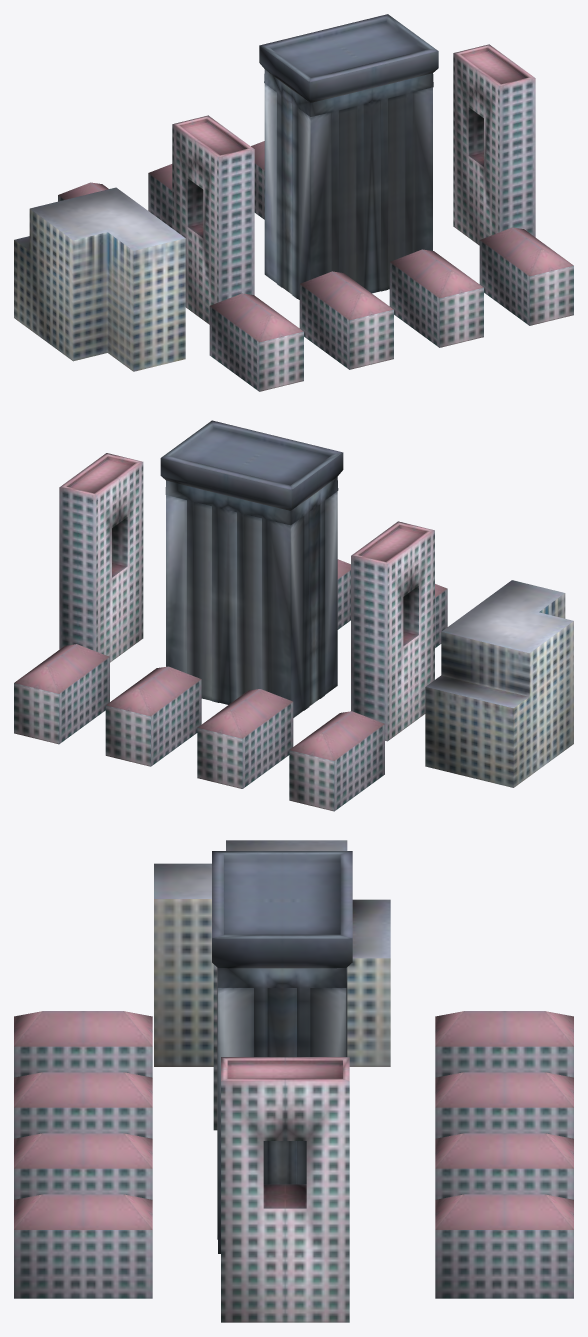
File: city_postmodern_0.glb
The picture shows the model from 3 angles, top to bottom: view 1: azimuth 30°, elevation 25°; view 2: azimuth 150°, elevation 25°; view 3: azimuth 270°, elevation 25°; orthographic projection. The views are drawn at different scales.
Parts seen in each view (by area): view 1: 16_low.018, 16_low.020, 16_low.019, 16_low.021, 16_low.022; view 2: 16_low.018, 16_low.020, 16_low.019, 16_low.021, 16_low.022; view 3: 16_low.020, 16_low.021, 16_low.018, 16_low.019, 16_low.022.
Part boxes in pixels (<box>): 16_low.018: <box>259,14,438,299</box>; 16_low.020: <box>58,141,573,391</box>; 16_low.019: <box>14,187,185,371</box>; 16_low.021: <box>453,44,535,245</box>; 16_low.022: <box>172,115,254,324</box>; 16_low.018: <box>160,420,343,717</box>; 16_low.020: <box>14,559,447,811</box>; 16_low.019: <box>425,580,573,787</box>; 16_low.021: <box>59,453,143,662</box>; 16_low.022: <box>351,521,434,741</box>; 16_low.020: <box>14,1011,573,1298</box>; 16_low.021: <box>221,1057,349,1322</box>; 16_low.018: <box>212,851,352,1253</box>; 16_low.019: <box>154,840,390,1066</box>; 16_low.022: <box>213,964,217,1130</box>.
Bounding box in the file's own units: 1.92 × 0.9081 × 1.45.
Materials: 4 (4 with a texture image).
